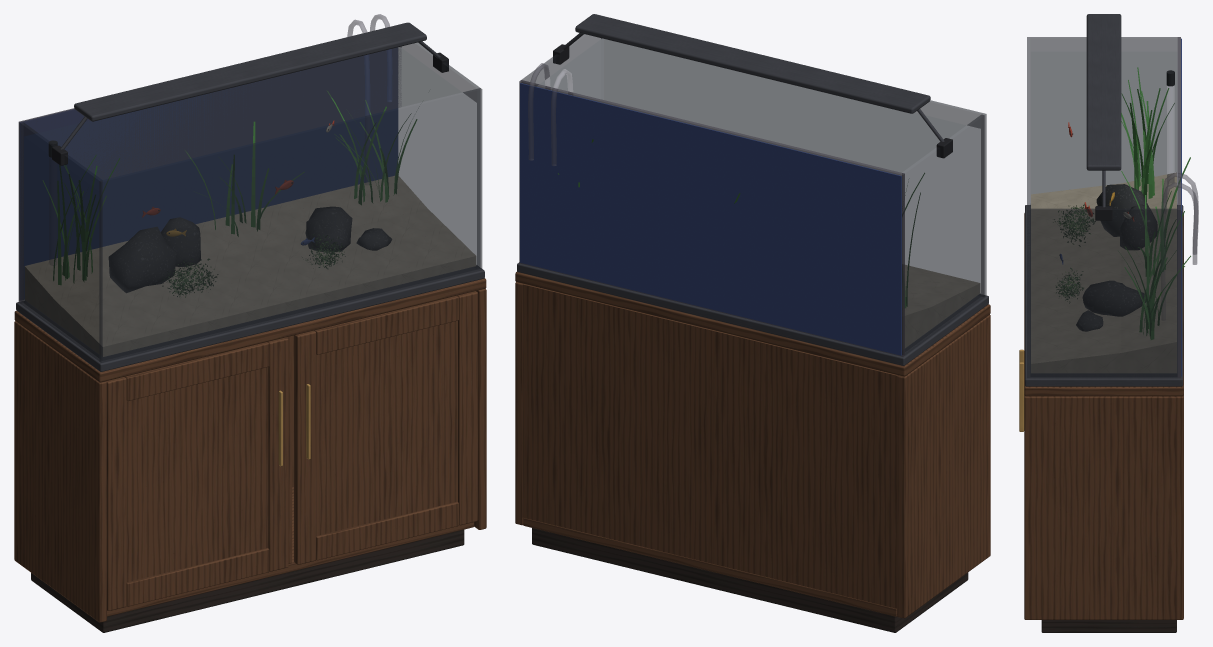
The model's file is aquarium.glb.
3 renders of one model, left to right at view 1: azimuth 30°, elevation 25°; view 2: azimuth 150°, elevation 25°; view 3: azimuth 270°, elevation 25°, orthographic. The views are drawn at different scales.
Visible parts, largest first — view 1: part_glass_front_LOD0, part_glass_back_LOD0, part_door_l_LOD0, part_door_r_LOD0, part_cabinet_LOD0, part_gravel_LOD0, part_glass_side_r_LOD0, part_lamp_LOD0, part_trim_LOD0, part_stones_LOD0, part_plants_LOD0, part_glass_side_l_LOD0 (+1 smaller); view 2: part_cabinet_LOD0, part_glass_back_LOD0, part_glass_front_LOD0, part_glass_side_r_LOD0, part_lamp_LOD0, part_trim_LOD0, part_gravel_LOD0, part_glass_side_l_LOD0, part_pipes_LOD0; view 3: part_cabinet_LOD0, part_glass_side_l_LOD0, part_gravel_LOD0, part_glass_side_r_LOD0, part_lamp_LOD0, part_plants_LOD0, part_stones_LOD0, part_trim_LOD0, part_pipes_LOD0, part_glass_back_LOD0, part_glass_front_LOD0, part_door_l_LOD0.
Part boxes in pixels (left/top/right/bottom): part_glass_front_LOD0: left=99, top=88, right=482, bottom=362; part_glass_back_LOD0: left=18, top=46, right=401, bottom=303; part_door_l_LOD0: left=294, top=291, right=478, bottom=564; part_door_r_LOD0: left=106, top=337, right=288, bottom=611; part_cabinet_LOD0: left=14, top=278, right=486, bottom=632; part_gravel_LOD0: left=25, top=176, right=475, bottom=356; part_glass_side_r_LOD0: left=20, top=122, right=102, bottom=361; part_lamp_LOD0: left=52, top=22, right=448, bottom=165; part_trim_LOD0: left=16, top=265, right=484, bottom=371; part_stones_LOD0: left=109, top=207, right=391, bottom=292; part_plants_LOD0: left=43, top=91, right=416, bottom=297; part_glass_side_l_LOD0: left=398, top=42, right=480, bottom=268; part_cabinet_LOD0: left=515, top=271, right=990, bottom=632; part_glass_back_LOD0: left=519, top=80, right=904, bottom=356; part_glass_front_LOD0: left=601, top=38, right=986, bottom=296; part_glass_side_r_LOD0: left=902, top=114, right=984, bottom=355; part_lamp_LOD0: left=553, top=14, right=952, bottom=158; part_trim_LOD0: left=517, top=262, right=988, bottom=365; part_gravel_LOD0: left=905, top=265, right=979, bottom=347; part_glass_side_l_LOD0: left=522, top=34, right=603, bottom=99; part_pipes_LOD0: left=528, top=63, right=573, bottom=165; part_cabinet_LOD0: left=1024, top=213, right=1183, bottom=632; part_glass_side_l_LOD0: left=1030, top=208, right=1177, bottom=378; part_gravel_LOD0: left=1031, top=172, right=1176, bottom=372; part_glass_side_r_LOD0: left=1030, top=37, right=1177, bottom=203; part_lamp_LOD0: left=1086, top=14, right=1121, bottom=220; part_plants_LOD0: left=1053, top=67, right=1190, bottom=339; part_stones_LOD0: left=1076, top=184, right=1157, bottom=331; part_trim_LOD0: left=1025, top=204, right=1183, bottom=386; part_pipes_LOD0: left=1161, top=70, right=1198, bottom=264; part_glass_back_LOD0: left=1177, top=37, right=1181, bottom=378; part_glass_front_LOD0: left=1027, top=37, right=1030, bottom=378; part_door_l_LOD0: left=1019, top=362, right=1024, bottom=431.
Size of what is drawn, in the model's own units: 1.21 by 1.47 by 0.5165.
21 materials, 14 textured.
